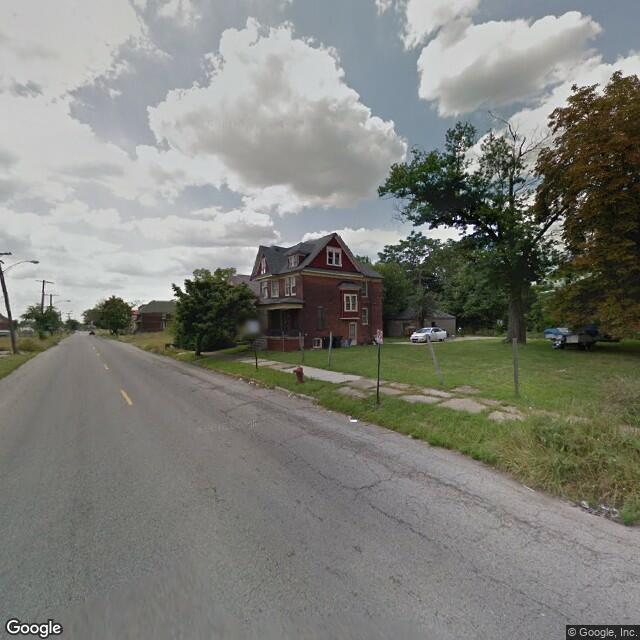litter: (578, 499, 590, 509), (348, 419, 360, 425), (249, 381, 263, 385)
